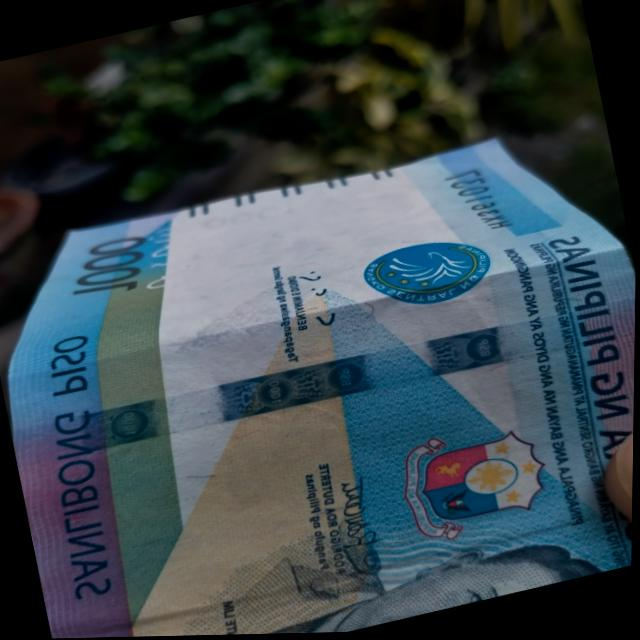security_thread: (14, 289, 637, 470)
see_through_mark: (130, 216, 203, 300)
serial_number: (441, 156, 525, 248)
